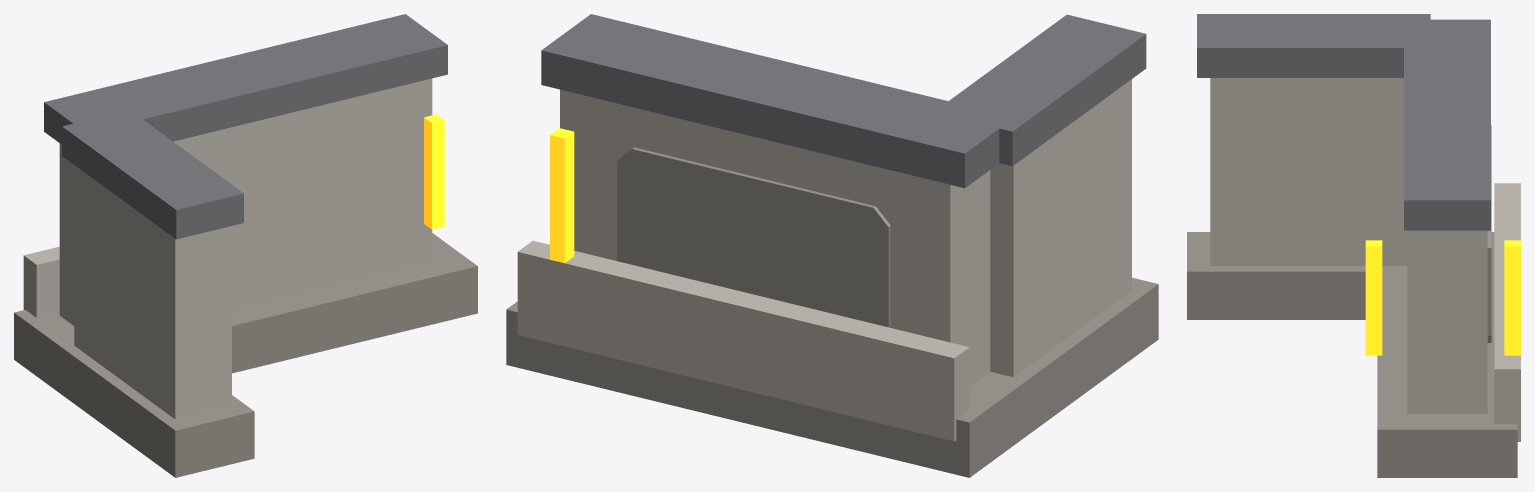
The model's file is cover.glb.
3 views of the same model, side by side, from view 1: azimuth 30°, elevation 25°; view 2: azimuth 150°, elevation 25°; view 3: azimuth 270°, elevation 25° (orthographic). The views are drawn at different scales.
Parts seen in each view (by area): view 1: cover_long_body, cover_short_body, cover_long_top_cap, cover_long_base, cover_short_top_cap, cover_short_base, cover_long_front_foot, cover_orange_stripe_-0.06; view 2: cover_long_front_foot, cover_long_top_cap, cover_long_body, cover_front_panel, cover_short_body, cover_long_base, cover_short_top_cap, cover_short_base, cover_orange_stripe_-0.475; view 3: cover_short_body, cover_long_top_cap, cover_long_body, cover_short_top_cap, cover_long_base, cover_short_base, cover_long_front_foot, cover_orange_stripe_-0.06, cover_orange_stripe_-0.475, cover_front_panel.
Part boxes in pixels (left/top/right/bottom): cover_long_body: left=59, top=78, right=432, bottom=325; cover_short_body: left=74, top=165, right=231, bottom=419; cover_long_top_cap: left=44, top=14, right=447, bottom=144; cover_long_base: left=14, top=233, right=477, bottom=386; cover_short_top_cap: left=62, top=110, right=243, bottom=239; cover_short_base: left=51, top=340, right=254, bottom=477; cover_long_front_foot: left=23, top=246, right=59, bottom=317; cover_orange_stripe_-0.06: left=424, top=114, right=444, bottom=229; cover_long_front_foot: left=517, top=240, right=969, bottom=441; cover_long_top_cap: left=541, top=14, right=1013, bottom=188; cover_long_body: left=560, top=89, right=990, bottom=386; cover_front_panel: left=617, top=147, right=890, bottom=327; cover_short_body: left=990, top=79, right=1131, bottom=377; cover_long_base: left=506, top=301, right=1049, bottom=477; cover_short_top_cap: left=935, top=14, right=1146, bottom=166; cover_short_base: left=977, top=277, right=1158, bottom=443; cover_orange_stripe_-0.475: left=550, top=128, right=574, bottom=263; cover_short_body: left=1210, top=78, right=1407, bottom=265; cover_long_top_cap: left=1404, top=19, right=1490, bottom=230; cover_long_body: left=1407, top=230, right=1487, bottom=413; cover_short_top_cap: left=1197, top=14, right=1430, bottom=77; cover_long_base: left=1377, top=232, right=1517, bottom=477; cover_short_base: left=1187, top=232, right=1365, bottom=319; cover_long_front_foot: left=1494, top=183, right=1520, bottom=441; cover_orange_stripe_-0.06: left=1365, top=240, right=1382, bottom=355; cover_orange_stripe_-0.475: left=1504, top=240, right=1520, bottom=355; cover_front_panel: left=1487, top=125, right=1491, bottom=342.
Bounding box in the file's own units: 1.4 × 0.89 × 1.
